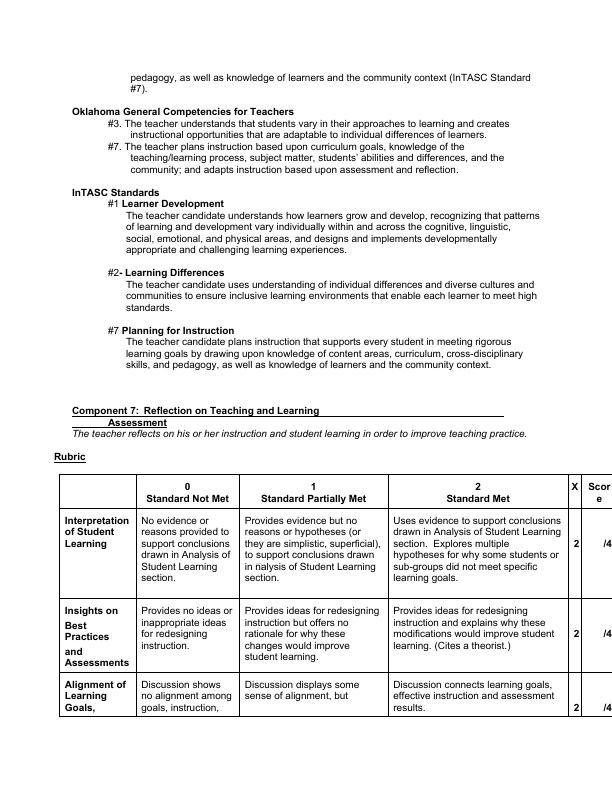table: (54, 471, 612, 722)
text: (67, 185, 556, 379), (69, 103, 527, 182), (122, 70, 540, 98), (71, 428, 530, 441), (69, 404, 325, 419), (50, 450, 90, 464)
